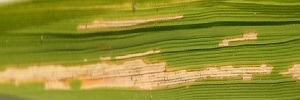RiceBacterialBlight: (3, 50, 300, 100), (73, 10, 186, 34), (215, 29, 260, 48)
